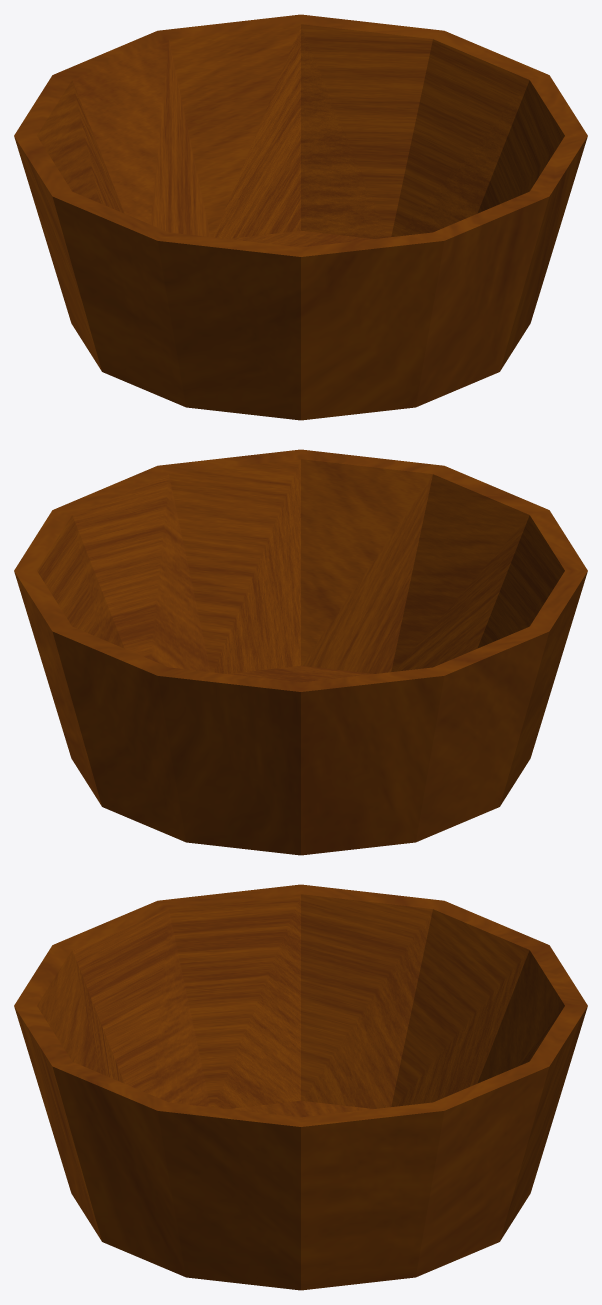
File: CuboGrande.fbx
3 renders of one model, top to bottom at view 1: azimuth 30°, elevation 25°; view 2: azimuth 150°, elevation 25°; view 3: azimuth 270°, elevation 25°, orthographic.
Visible parts, largest first — view 1: CuboGrande; view 2: CuboGrande; view 3: CuboGrande.
Boxes of the visible parts, x1,y1,x2,y2 form: CuboGrande: [14, 14, 587, 420]; CuboGrande: [14, 449, 587, 855]; CuboGrande: [14, 884, 587, 1290].
Bounding box in the file's own units: 400 × 144 × 400.
Materials: 1 (1 with a texture image).
